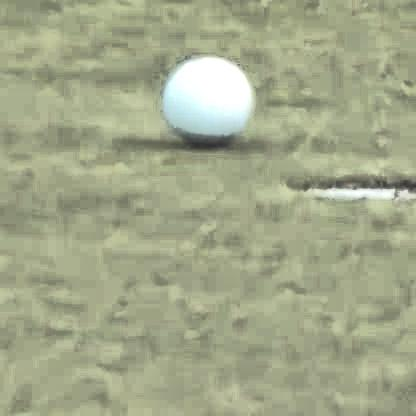golfball: (162, 47, 251, 143)
